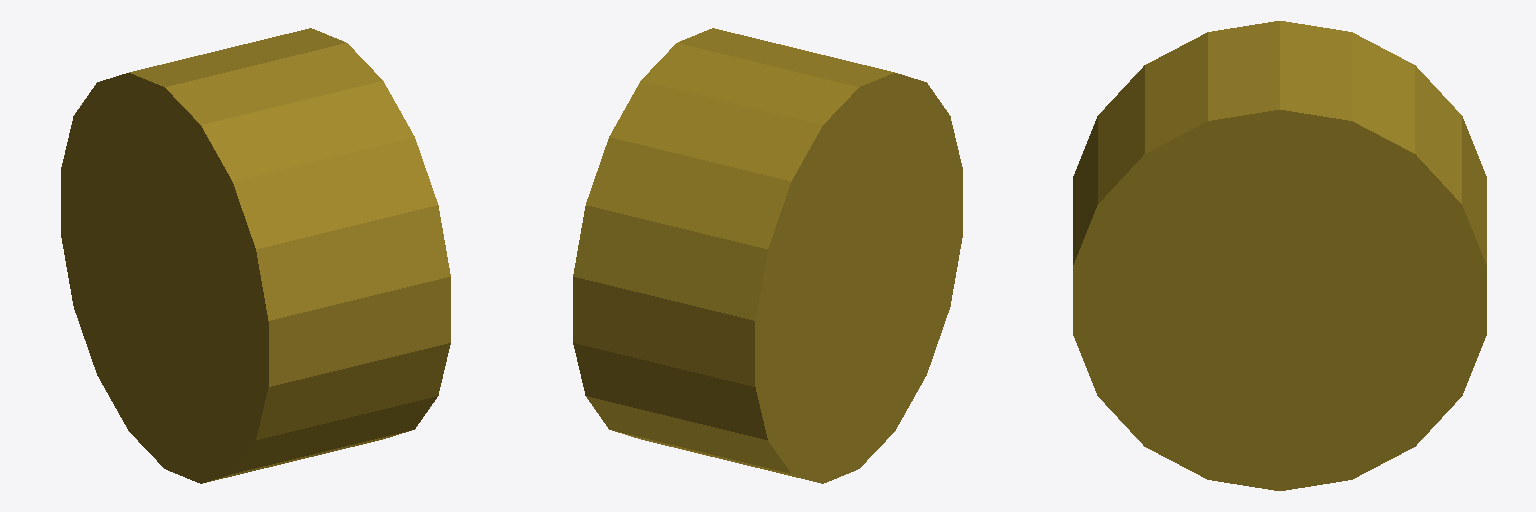
The model's file is rope_fragment.obj.
3 renders of one model, left to right at view 1: azimuth 30°, elevation 25°; view 2: azimuth 150°, elevation 25°; view 3: azimuth 270°, elevation 25°, orthographic.
Visible parts, largest first — view 1: Cylinder001; view 2: Cylinder001; view 3: Cylinder001.
Part boxes in pixels (bbox=[...]): Cylinder001: bbox=[61, 28, 450, 483]; Cylinder001: bbox=[573, 28, 962, 483]; Cylinder001: bbox=[1073, 21, 1486, 490].
Size of the model in its own units: 1 by 2 by 1.97.